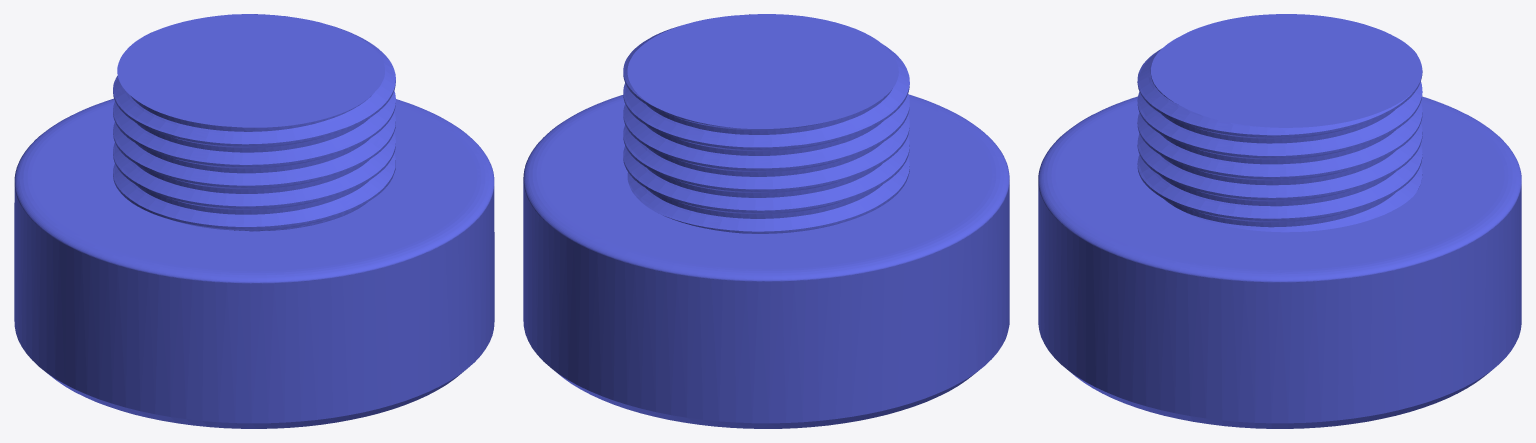
The model's file is socle_blue.glb.
The picture shows the model from 3 angles, left to right: view 1: azimuth 30°, elevation 25°; view 2: azimuth 150°, elevation 25°; view 3: azimuth 270°, elevation 25°; orthographic projection.
Parts seen in each view (by area): view 1: bouteille prototype V3 base; view 2: bouteille prototype V3 base; view 3: bouteille prototype V3 base.
Boxes of the visible parts, x1,y1,x2,y2 form: bouteille prototype V3 base: (14, 14, 494, 428); bouteille prototype V3 base: (523, 14, 1009, 428); bouteille prototype V3 base: (1038, 14, 1521, 428).
Bounding box in the file's own units: 83.5 × 49.68 × 83.5.
